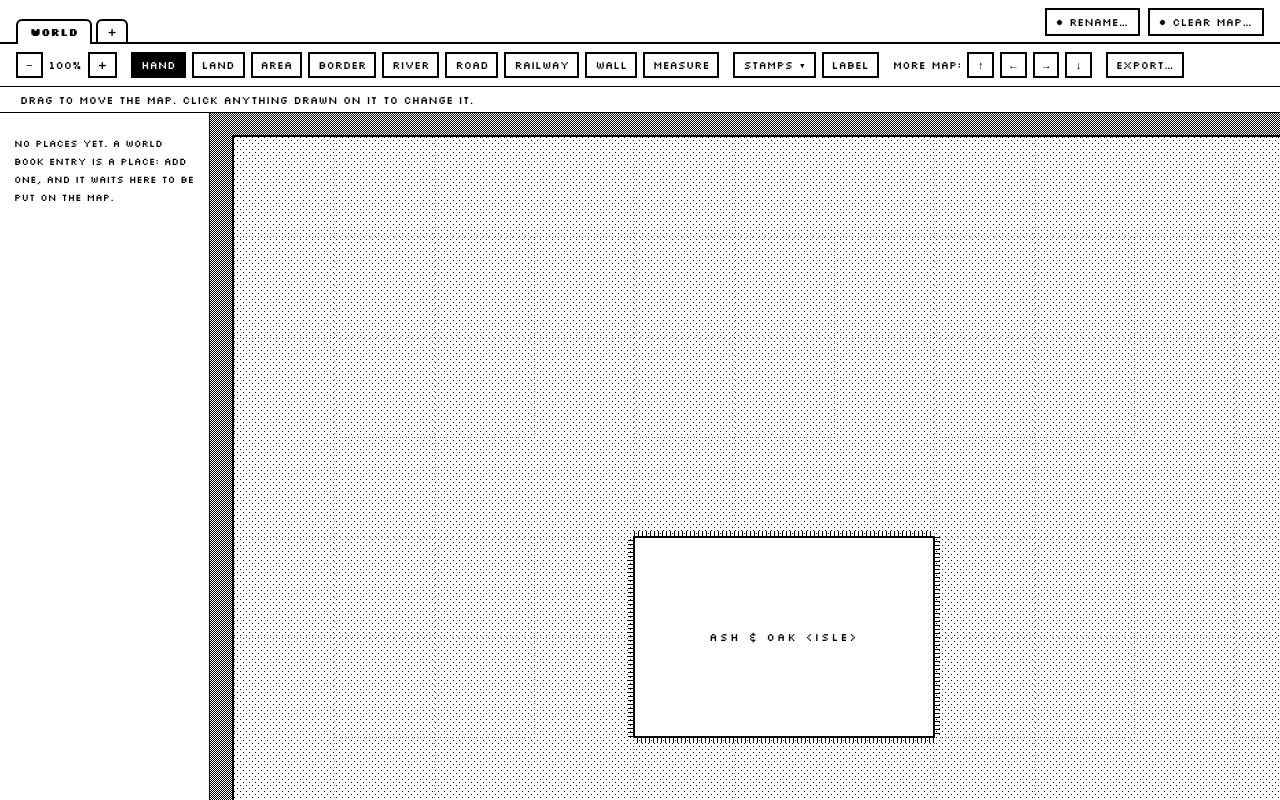
Scenario: Export Map Image › closes on Esc without leaving the map, and gives focus back to its button
This screenshot has width=1280, height=800.
Click the button "Export…" at (1145, 65), box [1106,52,1184,78]
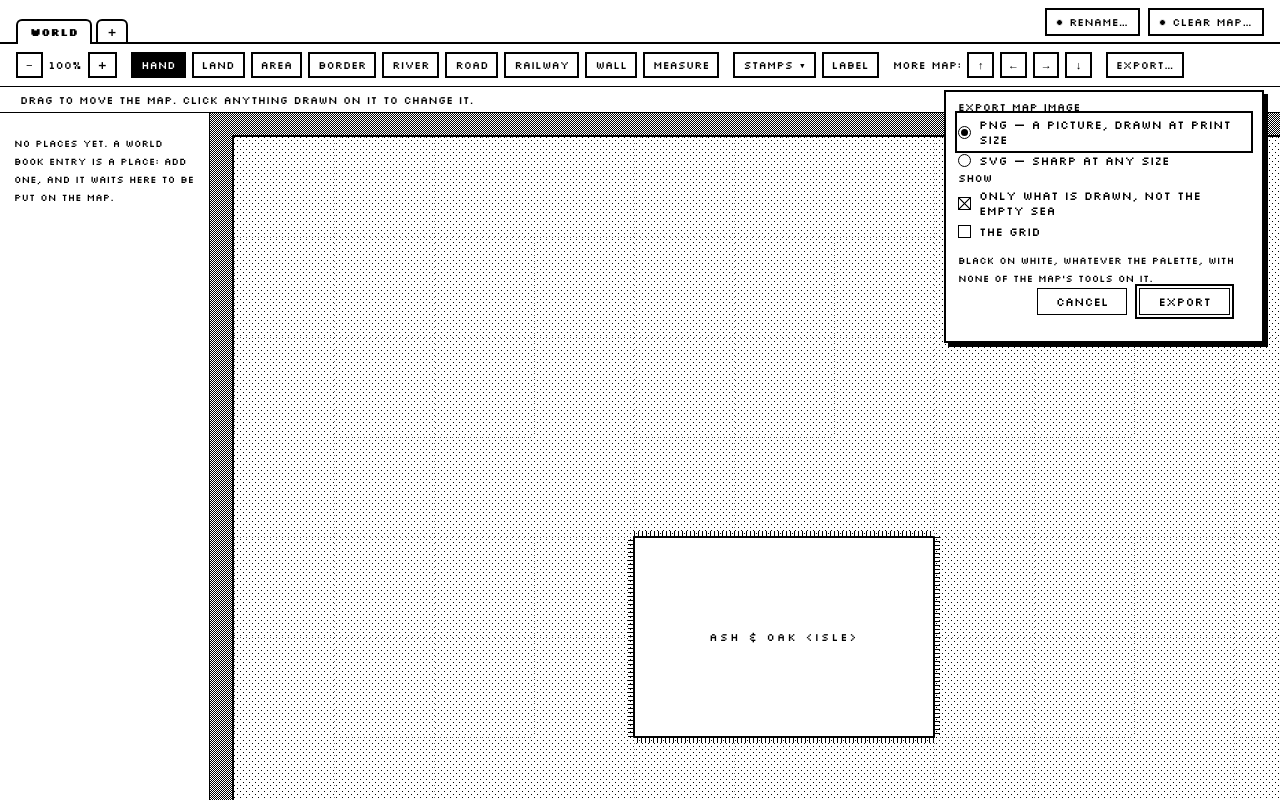
Press Escape in the radio button labelled "PNG — a picture, drawn at print size", box [958,114,1250,150]
Press Escape
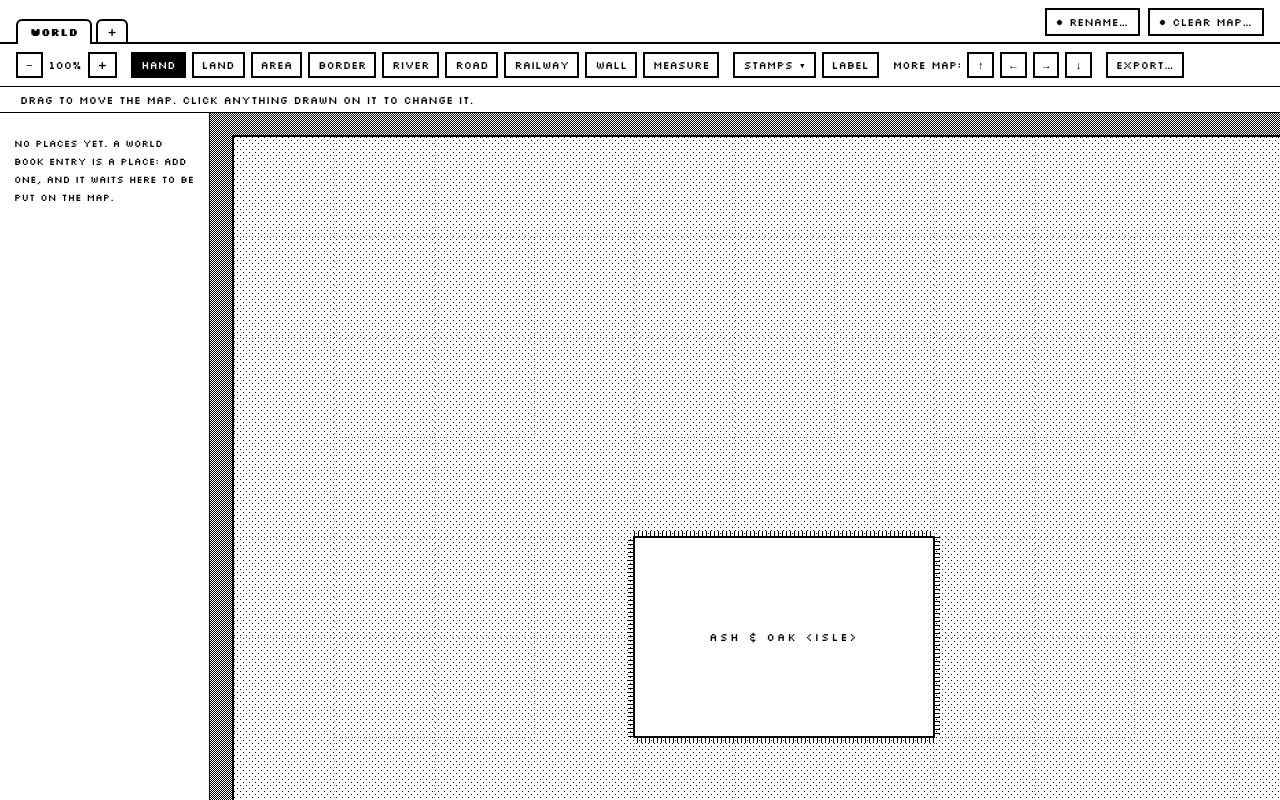
Result: the dialog is gone
